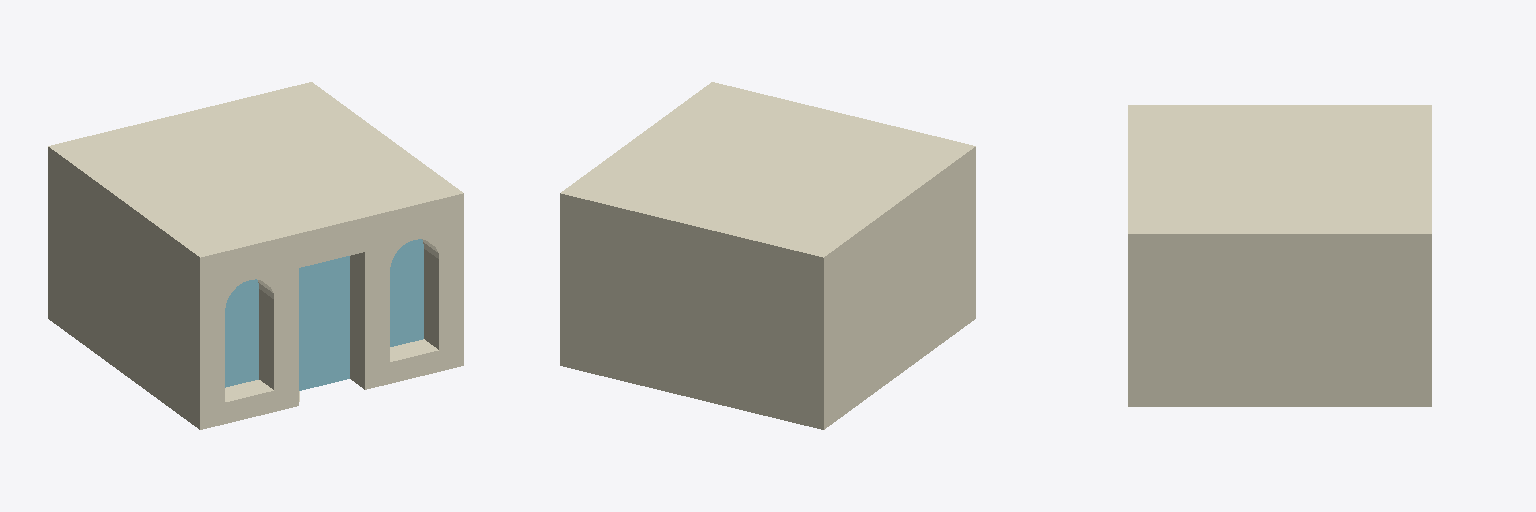
File: houseGround1.obj
3 views of the same model, side by side, from view 1: azimuth 30°, elevation 25°; view 2: azimuth 150°, elevation 25°; view 3: azimuth 270°, elevation 25° (orthographic).
Parts seen in each view (by area): view 1: Mesh1_Group1_Model.004; view 2: Mesh1_Group1_Model.004; view 3: Mesh1_Group1_Model.004.
Part boxes in pixels (left/top/right/bottom): Mesh1_Group1_Model.004: left=48, top=82, right=463, bottom=429; Mesh1_Group1_Model.004: left=560, top=82, right=975, bottom=429; Mesh1_Group1_Model.004: left=1128, top=105, right=1431, bottom=406.
Size of the model in its own units: 1 by 0.625 by 1.